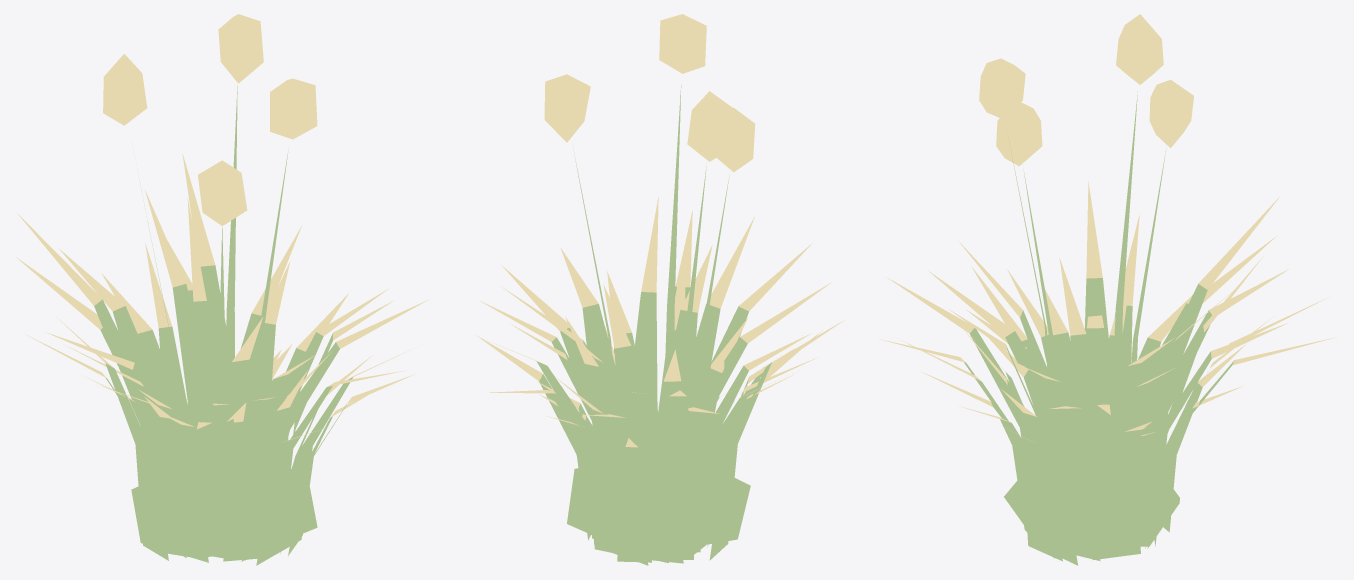
Rendered from Blender_Fescue_3.glb.
3 views of the same model, side by side, from view 1: azimuth 30°, elevation 25°; view 2: azimuth 150°, elevation 25°; view 3: azimuth 270°, elevation 25° (orthographic).
Parts seen in each view (by area): view 1: Blender_Fescue_3; view 2: Blender_Fescue_3; view 3: Blender_Fescue_3.
Part boxes in pixels (box(x1,y1,x2,y2)): Blender_Fescue_3: box(15, 14, 429, 565); Blender_Fescue_3: box(476, 14, 844, 565); Blender_Fescue_3: box(879, 14, 1337, 565).
Bounding box in the file's own units: 0.8728 × 1.12 × 0.9776.
